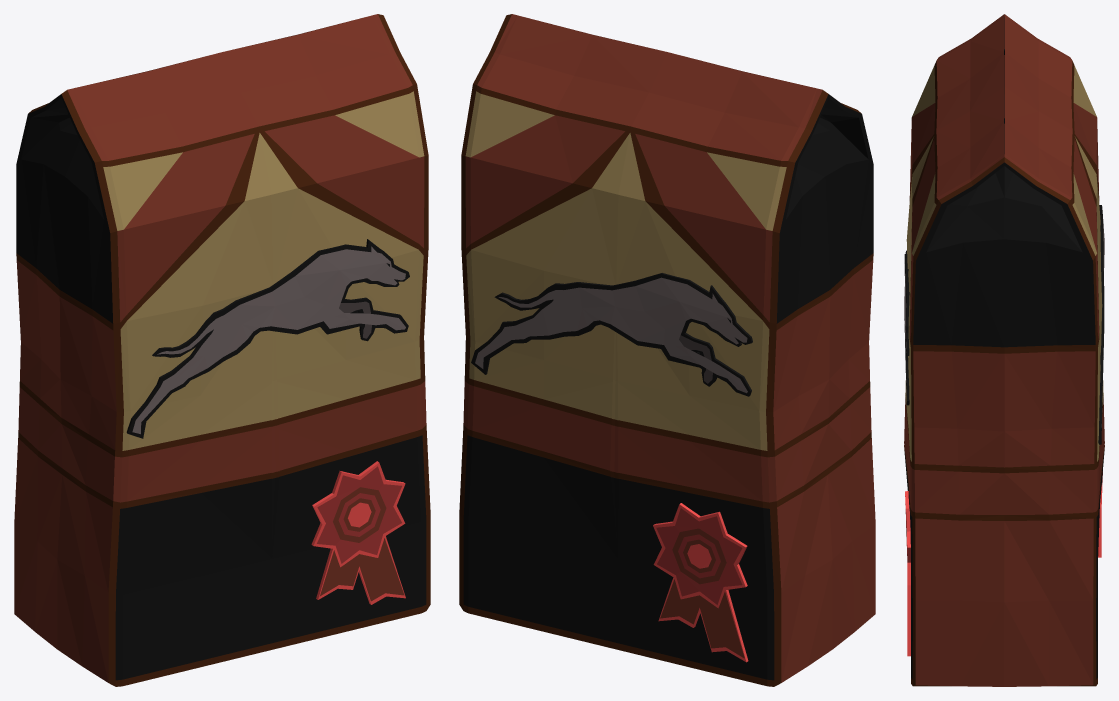
Rendered from Dry Free Food 2.fbx.
3 views of the same model, side by side, from view 1: azimuth 30°, elevation 25°; view 2: azimuth 150°, elevation 25°; view 3: azimuth 270°, elevation 25° (orthographic). The views are drawn at different scales.
Parts seen in each view (by area): view 1: Dry Free Food 2; view 2: Dry Free Food 2; view 3: Dry Free Food 2.
Boxes of the visible parts, x1,y1,x2,y2 form: Dry Free Food 2: (14,14,430,686); Dry Free Food 2: (459,14,875,686); Dry Free Food 2: (904,14,1104,686).
Bounding box in the file's own units: 65.6 × 107 × 36.64.
